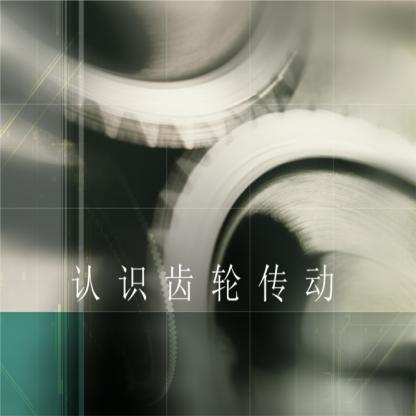FOD: (0, 0, 308, 152)
